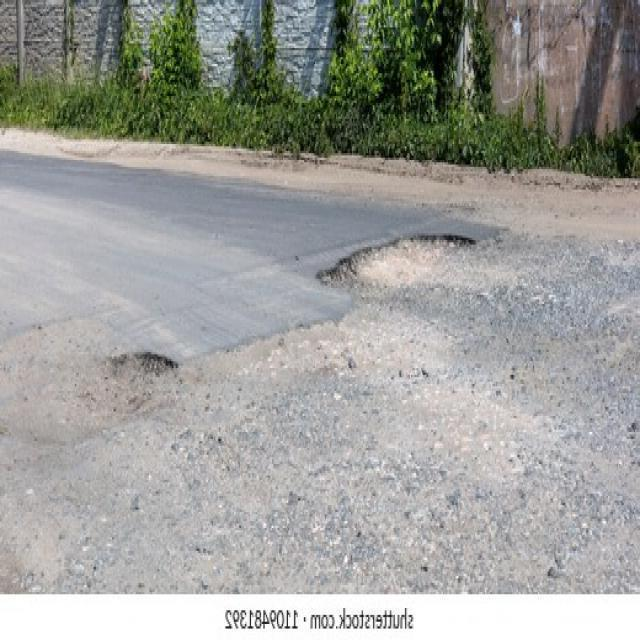pothole: (316, 233, 479, 297), (86, 350, 177, 428)
